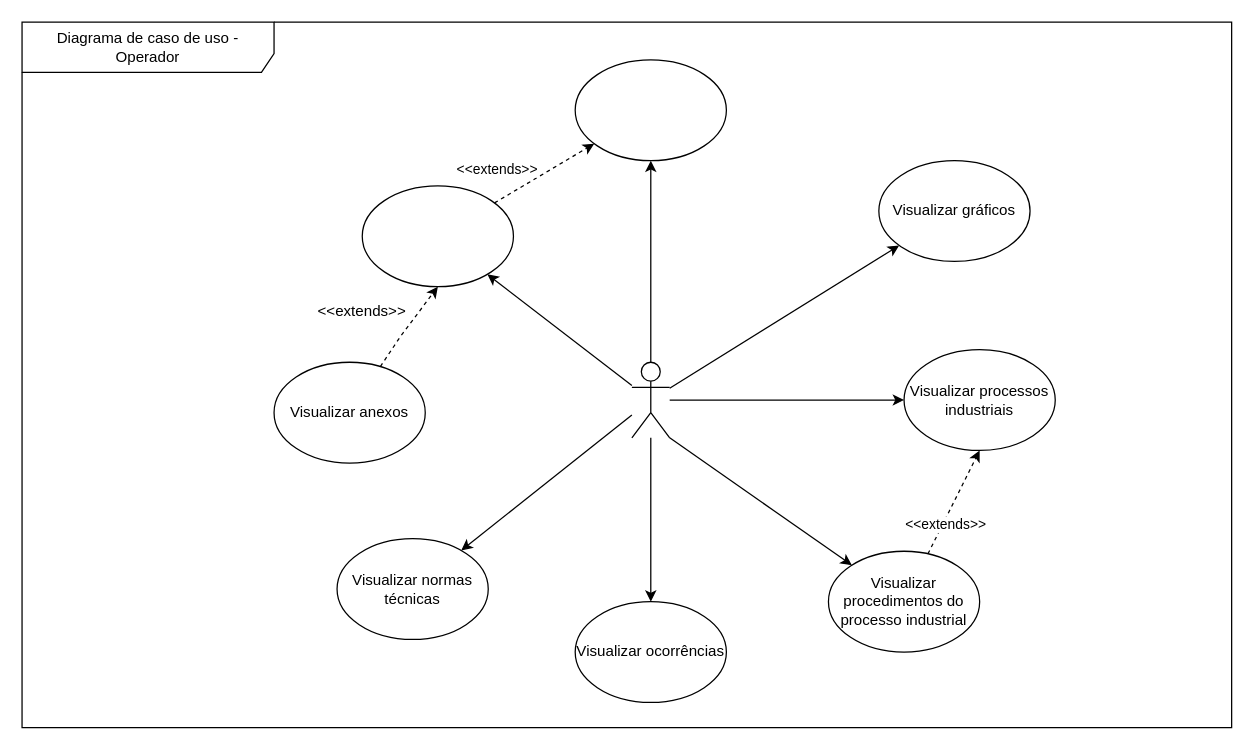
The diagram is 1254 pixels wide and 750 high, and some of its shapes have lost their labels. Here are the shapes that lost their labels. From the top down, the centre of each, then its label:
At pixel 650 110: "Visualizar empresas de consultoria".
At pixel 437 236: "Visualizar consultorias".
At pixel 650 399: "Operador".
